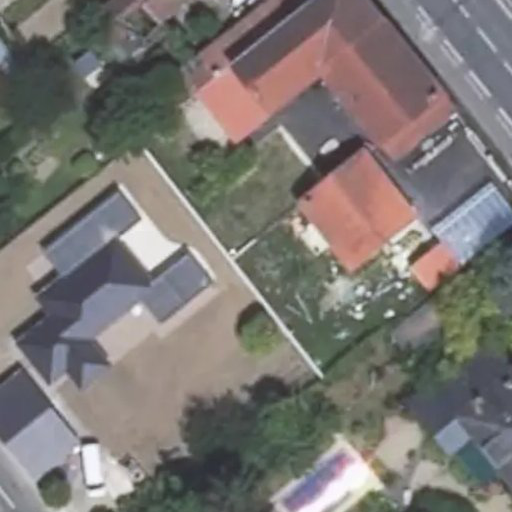pool: (205, 217, 312, 266)
